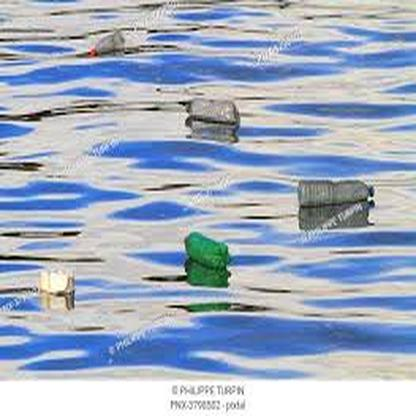plastic bottle: (295, 179, 375, 207), (183, 233, 231, 271), (185, 97, 239, 125), (89, 30, 125, 55)
